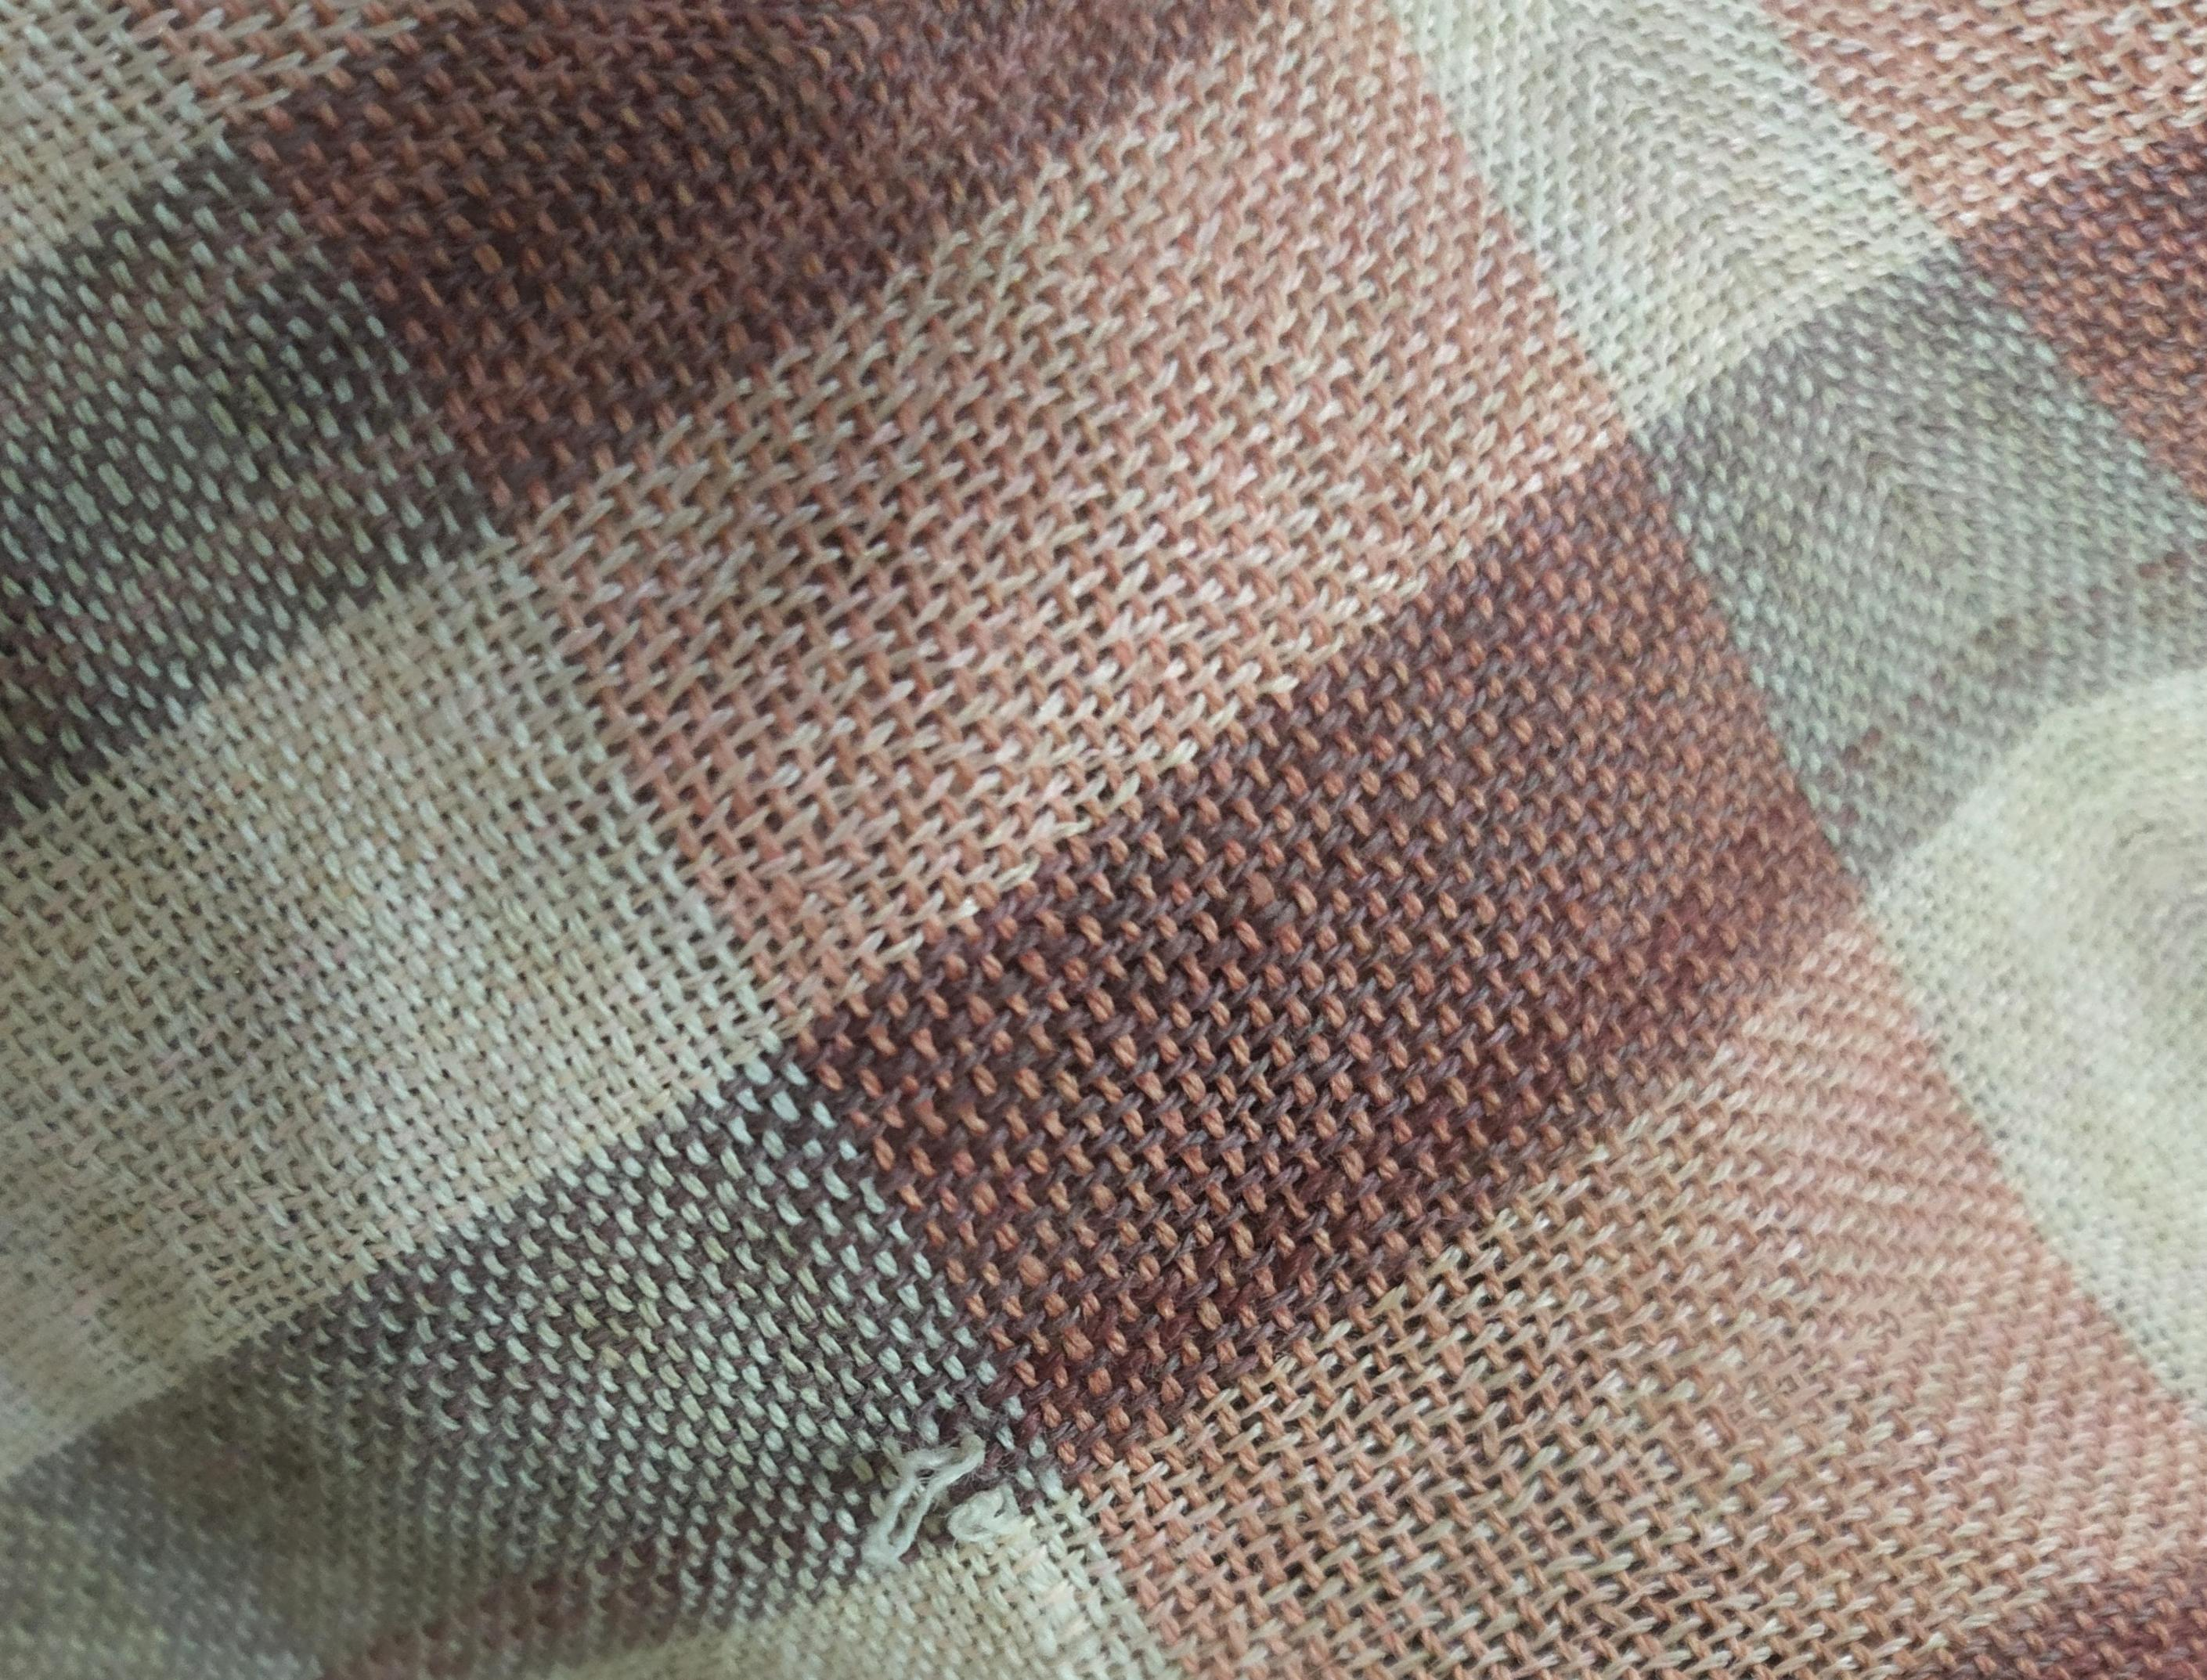snag: (847, 1412, 1067, 1599)
